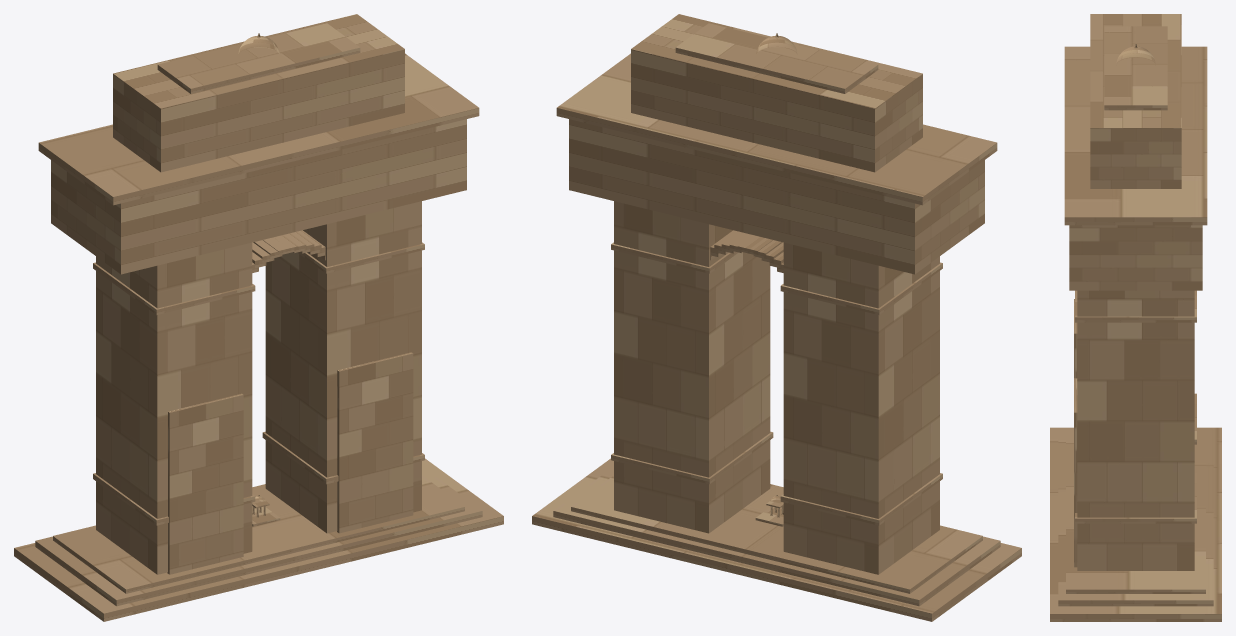
The model's file is india-gate.glb.
3 renders of one model, left to right at view 1: azimuth 30°, elevation 25°; view 2: azimuth 150°, elevation 25°; view 3: azimuth 270°, elevation 25°, orthographic. The views are drawn at different scales.
Visible parts, largest first — view 1: india-gate; view 2: india-gate; view 3: india-gate.
Part boxes in pixels (x1,y1,x2,y2): india-gate: (14, 14, 503, 621); india-gate: (532, 14, 1021, 621); india-gate: (1050, 14, 1221, 621).
Size of the model in its own units: 35.4 by 42.85 by 13.77.
1 material, 1 textured.
